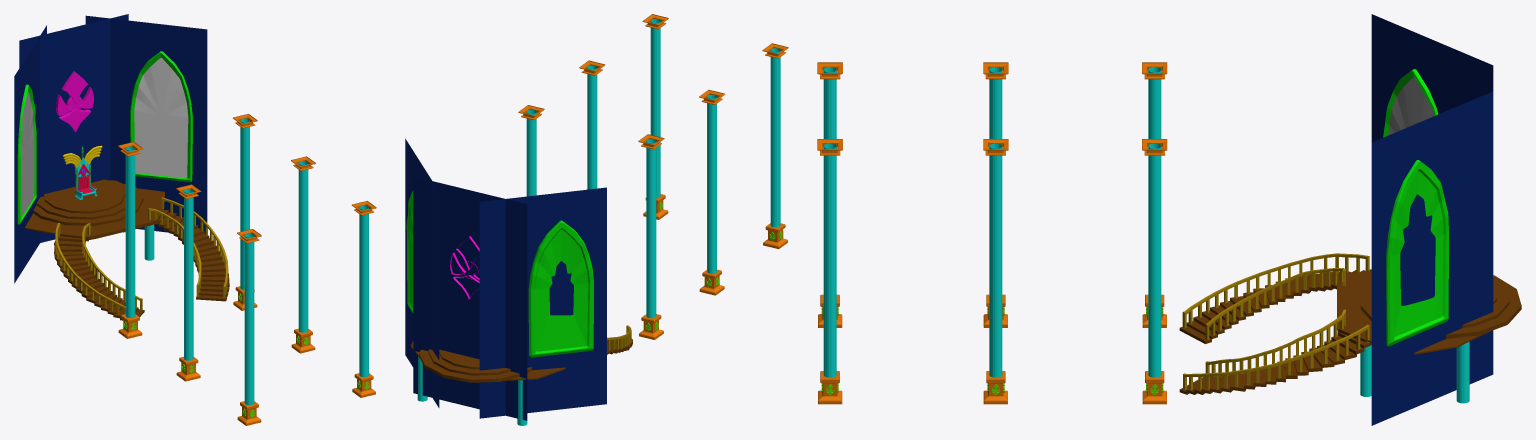
The model's file is throne_room.fbx.
The picture shows the model from 3 angles, left to right: view 1: azimuth 30°, elevation 25°; view 2: azimuth 150°, elevation 25°; view 3: azimuth 270°, elevation 25°; orthographic projection. The views are drawn at different scales.
Visible parts, largest first — view 1: pCube3, pasted__pCube3, pCylinder1 (×5), polySurface53, pasted__pCube4, polySurface52, polySurface10, _MOD_ThronePillar:pCylinder1, pCylinder8, pCube1 (×4), polySurface12, _MOD_Throne:pCube17 (+8 smaller); view 2: pCube3, pasted__pCube4, pCylinder1 (×5), polySurface52, pasted__pCube3, _MOD_ThronePillar:pCylinder1, pCylinder6, polySurface53, pCube1 (×2), pCylinder7, pCylinder8, _MOD_ThronePillar:pCube1 (+1 smaller); view 3: pasted__pCube3, pCylinder1 (×5), pasted__pCube4, polySurface53, polySurface12, polySurface52, polySurface10, polySurface33, polySurface13, pCylinder6, _MOD_ThronePillar:pCylinder1, pCylinder4.
Part boxes in pixels (<box>): pCube3: <box>19,14,128,242</box>; pasted__pCube3: <box>85,15,207,232</box>; pCylinder1 (×5): <box>184,118,368,404</box>; polySurface53: <box>130,51,192,182</box>; pasted__pCube4: <box>14,25,46,283</box>; polySurface52: <box>17,84,36,224</box>; polySurface10: <box>25,188,164,241</box>; _MOD_ThronePillar:pCylinder1: <box>125,146,135,317</box>; pCylinder8: <box>44,179,125,213</box>; pCube1 (×4): <box>176,328,375,425</box>; polySurface12: <box>82,208,201,310</box>; _MOD_Throne:pCube17: <box>63,145,102,199</box>; pCube3: <box>413,176,527,420</box>; pasted__pCube4: <box>479,187,606,418</box>; pCylinder1 (×5): <box>526,19,780,273</box>; polySurface52: <box>528,220,593,357</box>; pasted__pCube3: <box>405,139,439,407</box>; _MOD_ThronePillar:pCylinder1: <box>646,139,656,318</box>; pCylinder6: <box>419,349,532,382</box>; polySurface53: <box>406,190,413,312</box>; pCube1 (×2): <box>699,223,787,295</box>; pCylinder7: <box>428,349,510,375</box>; pCylinder8: <box>439,349,479,369</box>; _MOD_ThronePillar:pCube1: <box>639,314,663,339</box>; pasted__pCube3: <box>1371,91,1493,425</box>; pCylinder1 (×5): <box>823,67,1161,377</box>; pasted__pCube4: <box>1371,14,1493,142</box>; polySurface53: <box>1386,160,1448,346</box>; polySurface12: <box>1205,268,1345,377</box>; polySurface52: <box>1383,69,1438,137</box>; polySurface10: <box>1337,269,1489,354</box>; polySurface33: <box>1183,324,1369,390</box>; polySurface13: <box>1182,253,1369,328</box>; pCylinder6: <box>1360,275,1521,338</box>; _MOD_ThronePillar:pCylinder1: <box>1148,67,1161,138</box>; pCylinder4: <box>1456,342,1469,403</box>.
Bounding box in the file's own units: 20.2 × 21.33 × 46.72.
